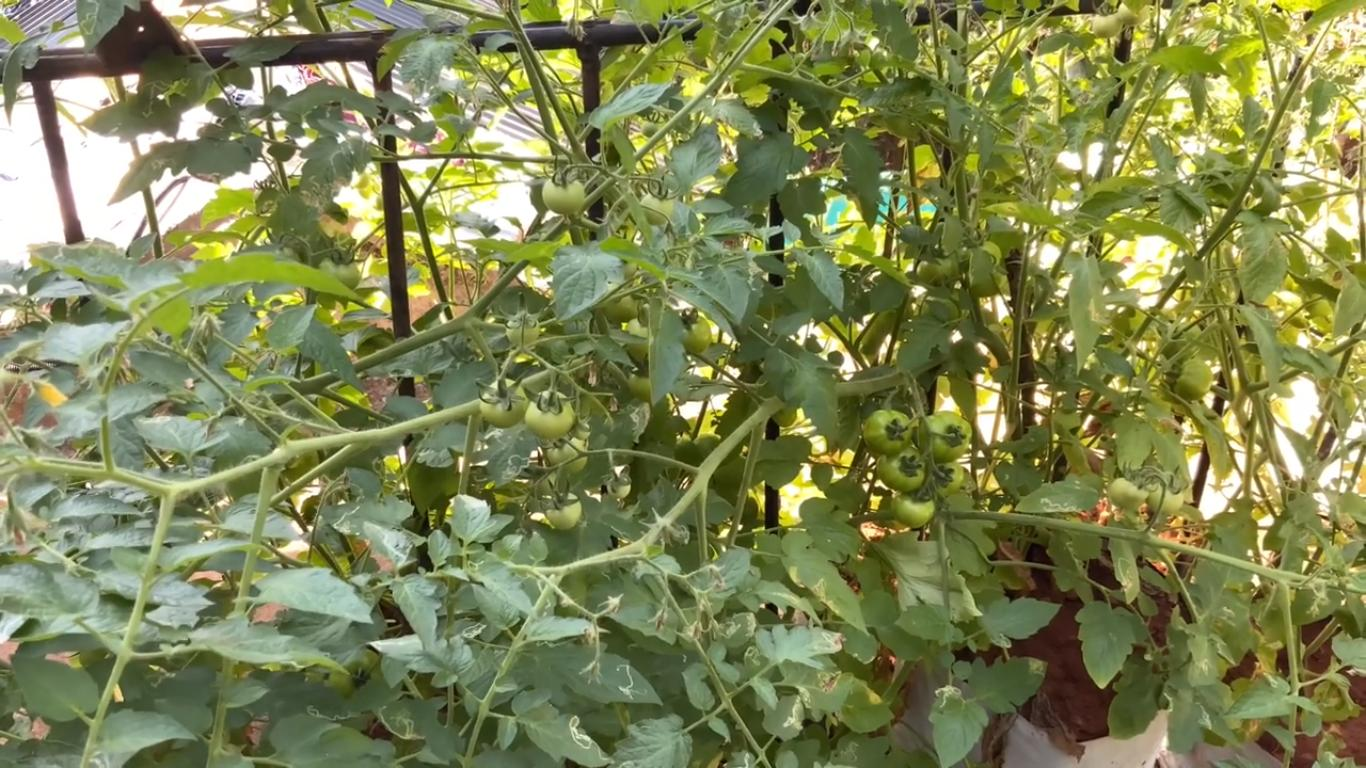Leaf_Miner: (779, 529, 871, 637), (509, 685, 615, 768), (535, 641, 664, 708), (109, 135, 193, 203), (929, 683, 987, 768), (968, 653, 1048, 714), (294, 135, 354, 214), (753, 622, 844, 673), (977, 594, 1062, 648), (1014, 471, 1107, 515), (75, 0, 143, 59), (483, 424, 538, 489), (317, 500, 398, 537), (372, 699, 427, 742), (1106, 537, 1139, 604), (762, 694, 804, 742), (136, 75, 173, 115), (717, 611, 756, 647), (304, 699, 358, 722), (841, 738, 864, 765)
